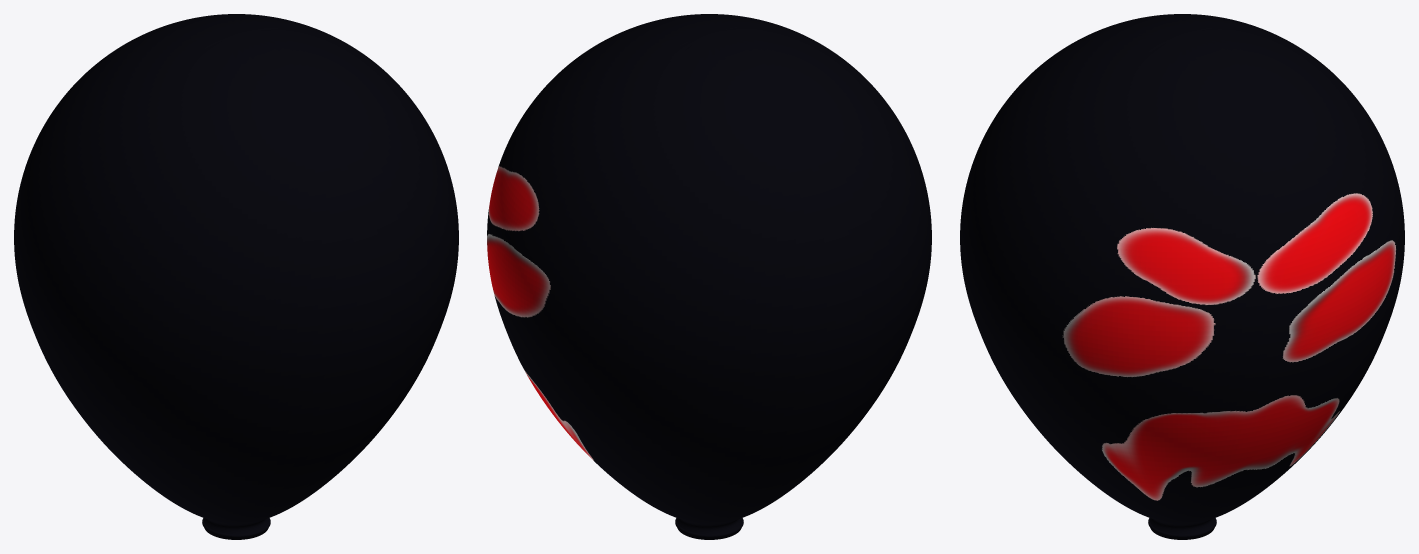
The model's file is BossModel.glb.
3 renders of one model, left to right at view 1: azimuth 30°, elevation 25°; view 2: azimuth 150°, elevation 25°; view 3: azimuth 270°, elevation 25°, orthographic.
Visible parts, largest first — view 1: Sphere; view 2: Sphere; view 3: Sphere.
Part boxes in pixels (<box>): Sphere: <box>14,14,458,539</box>; Sphere: <box>487,14,931,539</box>; Sphere: <box>960,14,1404,539</box>.
Size of the model in its own units: 0.5968 by 0.7288 by 0.5968.
Materials: 1 (1 with a texture image).
